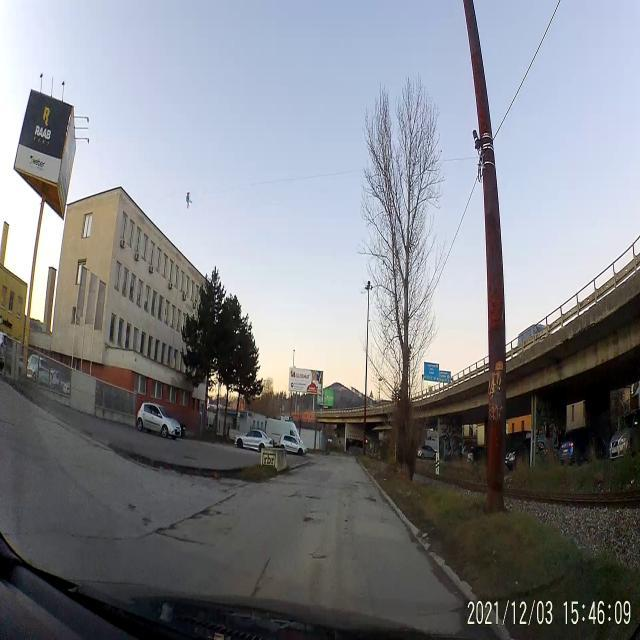Pothole: (150, 520, 200, 545), (196, 493, 233, 520), (302, 511, 314, 527)
